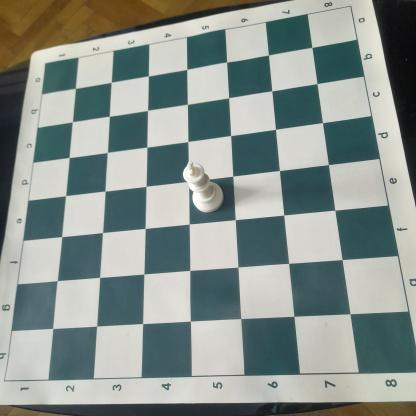white-king: (181, 158, 226, 214)
